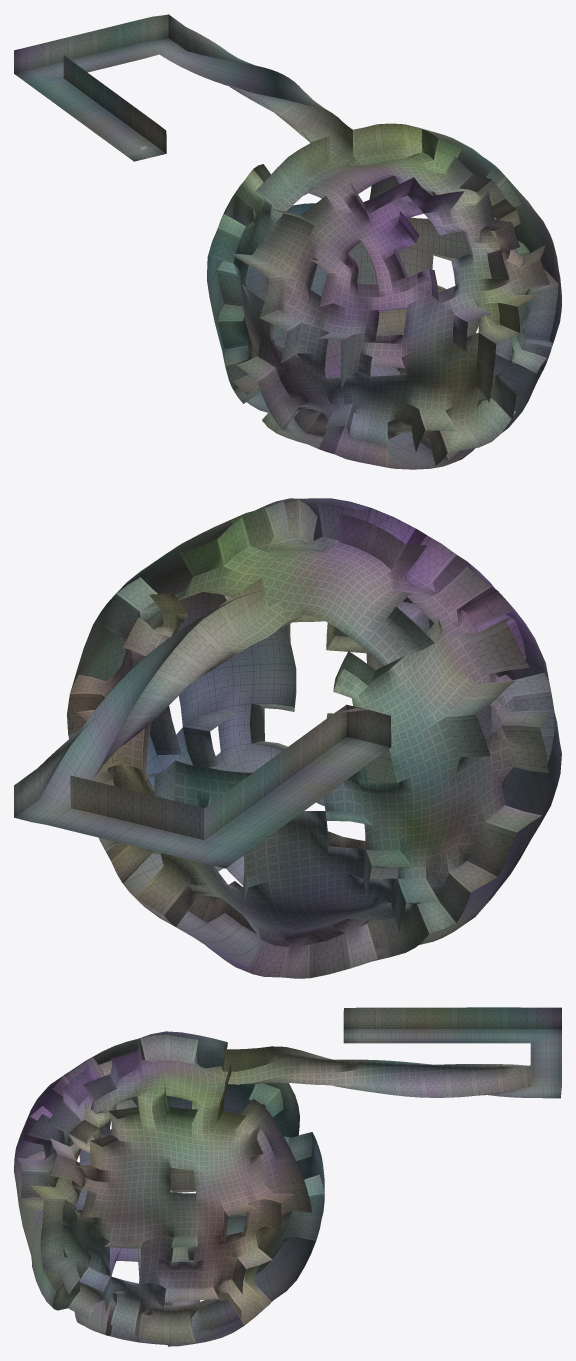
File: tile_floor.glb
3 renders of one model, top to bottom at view 1: azimuth 30°, elevation 25°; view 2: azimuth 150°, elevation 25°; view 3: azimuth 270°, elevation 25°, orthographic. The views are drawn at different scales.
Visible parts, largest first — view 1: lattice_wall, lattice_ceil, lattice_floor; view 2: lattice_wall, lattice_ceil, lattice_floor; view 3: lattice_ceil, lattice_wall, lattice_floor.
Part boxes in pixels (box(x1,y1,x2,y2)): lattice_wall: box(14, 14, 558, 467); lattice_ceil: box(145, 15, 533, 439); lattice_floor: box(14, 37, 561, 469); lattice_wall: box(14, 499, 554, 978); lattice_ceil: box(100, 532, 515, 946); lattice_floor: box(14, 498, 561, 976); lattice_ceil: box(43, 1007, 530, 1317); lattice_wall: box(17, 1007, 561, 1343); lattice_floor: box(14, 1029, 561, 1346).
Size of the model in its own units: 51.01 by 50.71 by 87.88.
Materials: 6 (6 with a texture image).
